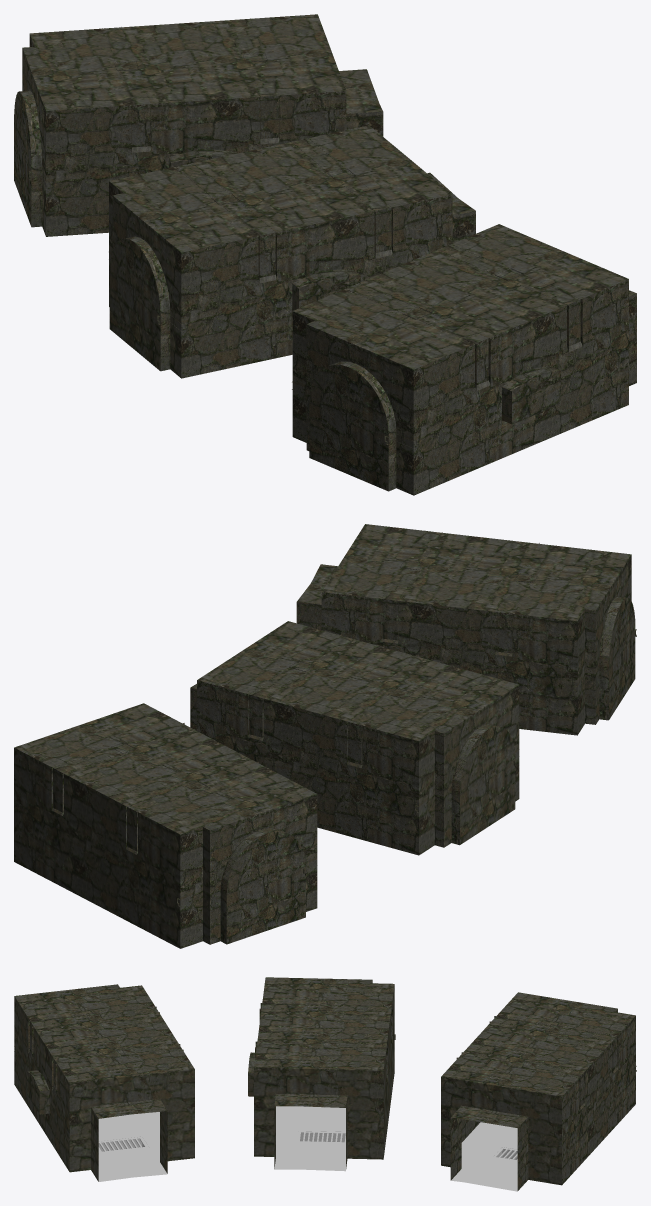
The model's file is Room6_1.fbx.
3 renders of one model, top to bottom at view 1: azimuth 30°, elevation 25°; view 2: azimuth 150°, elevation 25°; view 3: azimuth 270°, elevation 25°, orthographic. The views are drawn at different scales.
Parts seen in each view (by area): view 1: Room6_2; view 2: Room6_2; view 3: Room6_2.
Boxes of the visible parts, x1,y1,x2,y2 form: Room6_2: [14, 14, 636, 495]; Room6_2: [14, 524, 636, 948]; Room6_2: [14, 977, 636, 1191].
Size of the model in its own units: 1380 by 498 by 2818.
